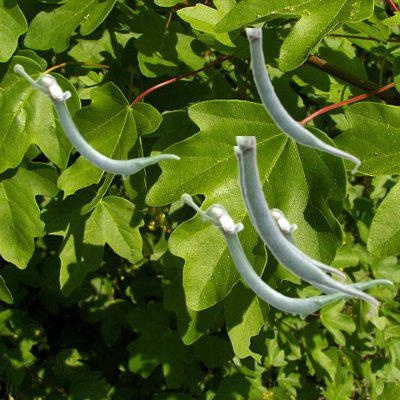french_bean: (235, 136, 378, 318), (180, 192, 358, 319), (13, 63, 179, 179), (245, 28, 360, 174), (233, 146, 345, 282), (271, 207, 392, 301)
